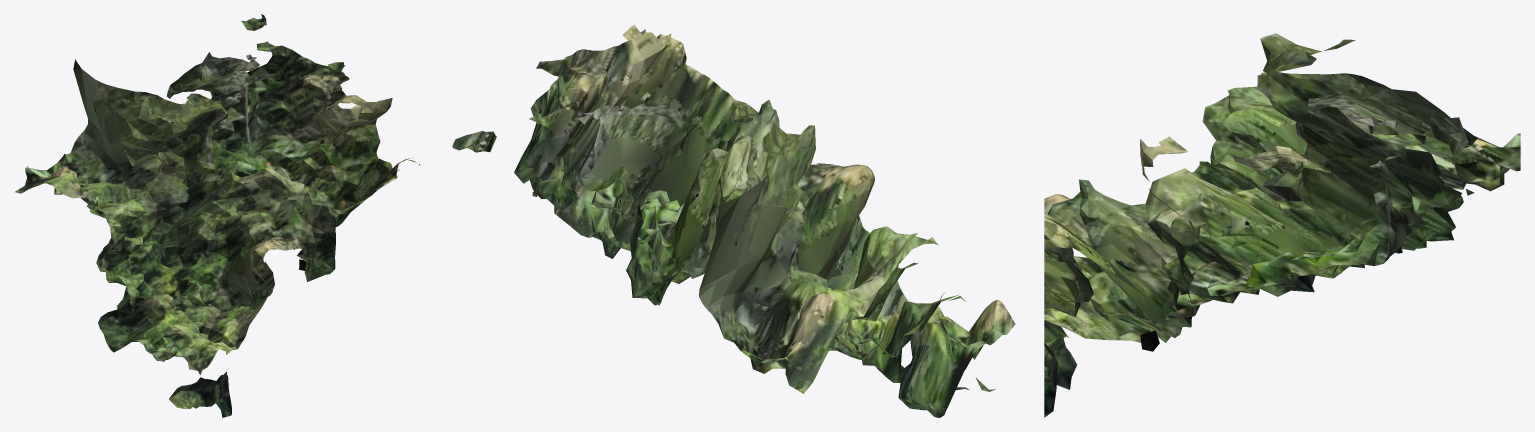
3 renders of one model, left to right at view 1: azimuth 30°, elevation 25°; view 2: azimuth 150°, elevation 25°; view 3: azimuth 270°, elevation 25°, orthographic. The views are drawn at different scales.
Size of the model in its own units: 26.11 by 23.9 by 26.11.
6 materials, 6 textured.
